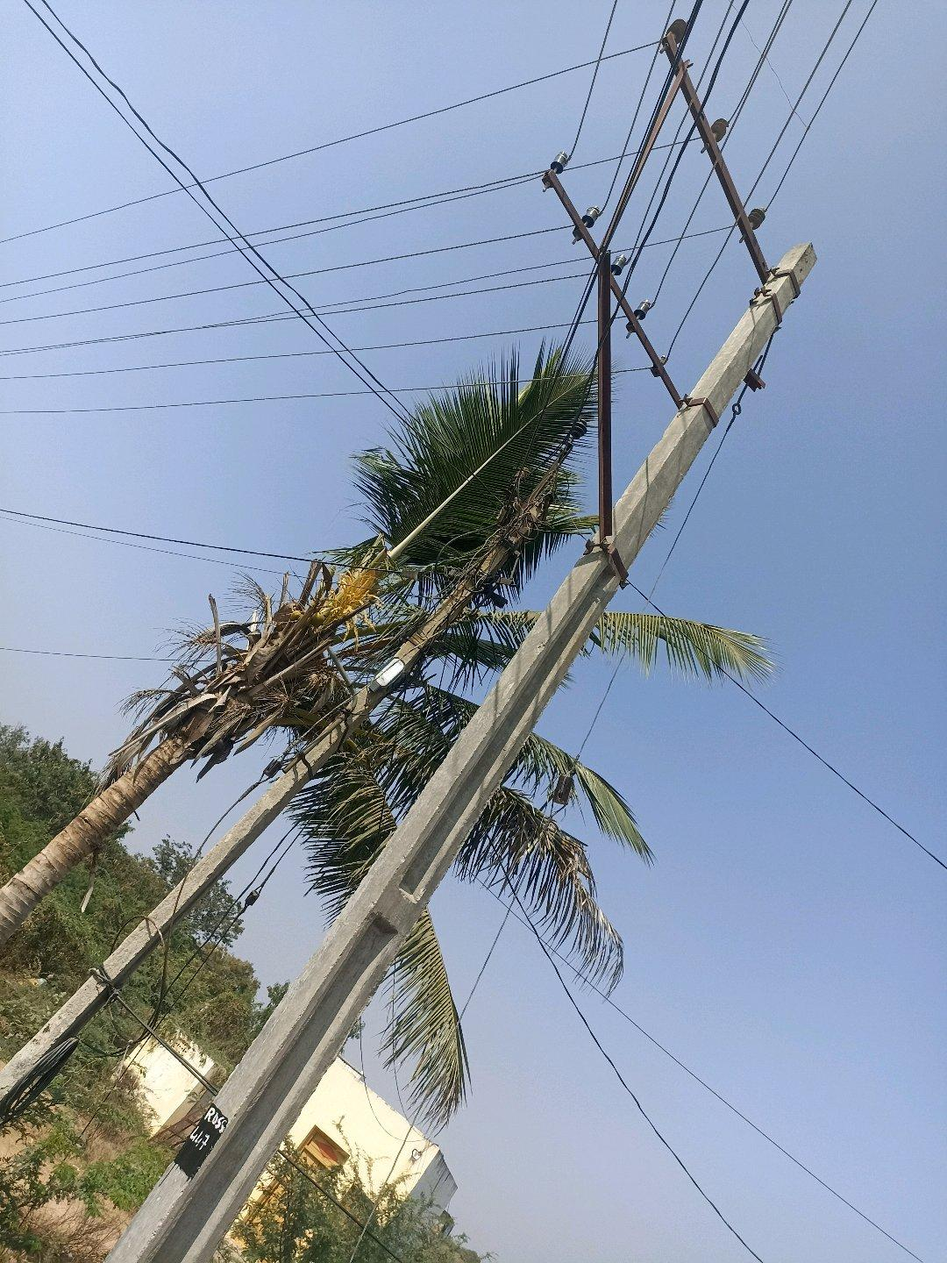{"0" "insulator", "1" "pole", "2" "crossarm", "3" "conductor", "4" "street_: (106, 20, 814, 1262), (542, 153, 600, 262), (611, 253, 628, 275), (608, 271, 609, 274)
